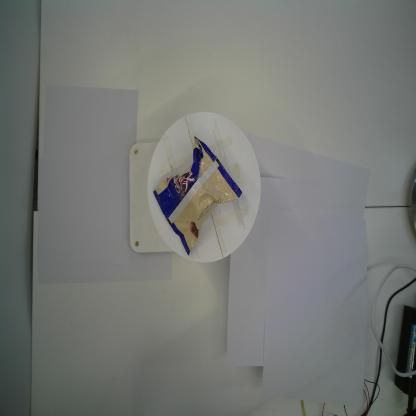Dessert: (153, 134, 243, 258)
